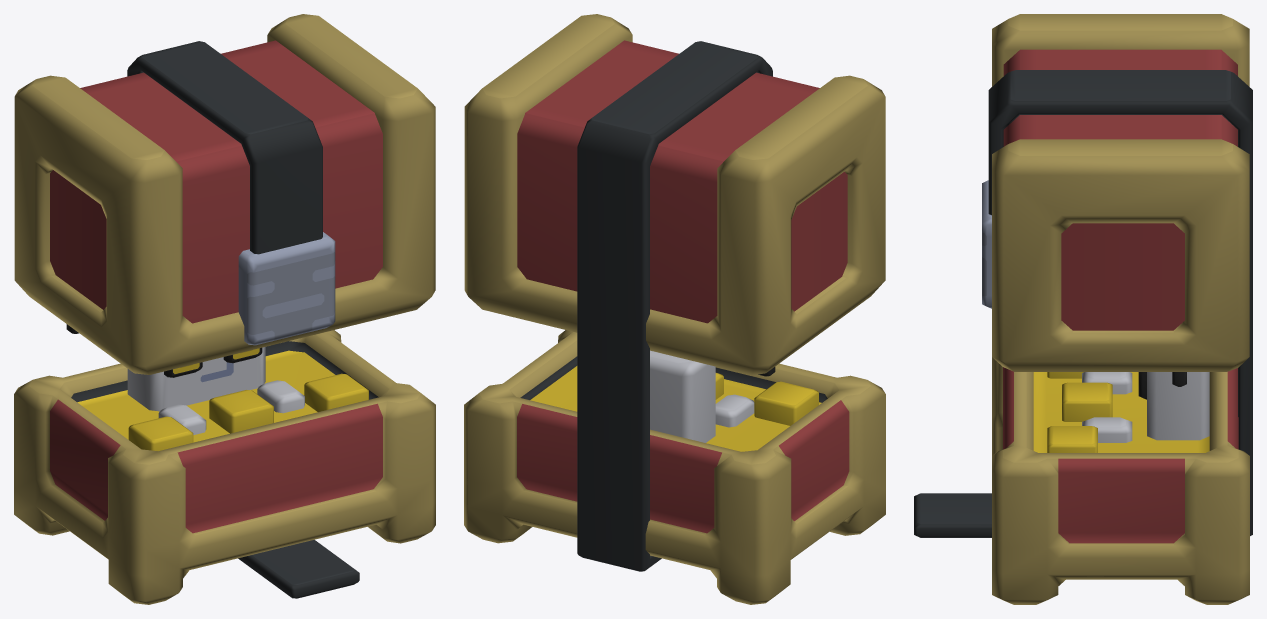
3 views of the same model, side by side, from view 1: azimuth 30°, elevation 25°; view 2: azimuth 150°, elevation 25°; view 3: azimuth 270°, elevation 25° (orthographic).
Visible parts, largest first — view 1: model; view 2: model; view 3: model.
Part boxes in pixels (x1,y1,x2,y2): model: (14,14,435,604); model: (464,14,885,604); model: (914,14,1252,604).
Size of the model in its own units: 1.28 by 1.78 by 1.22.
